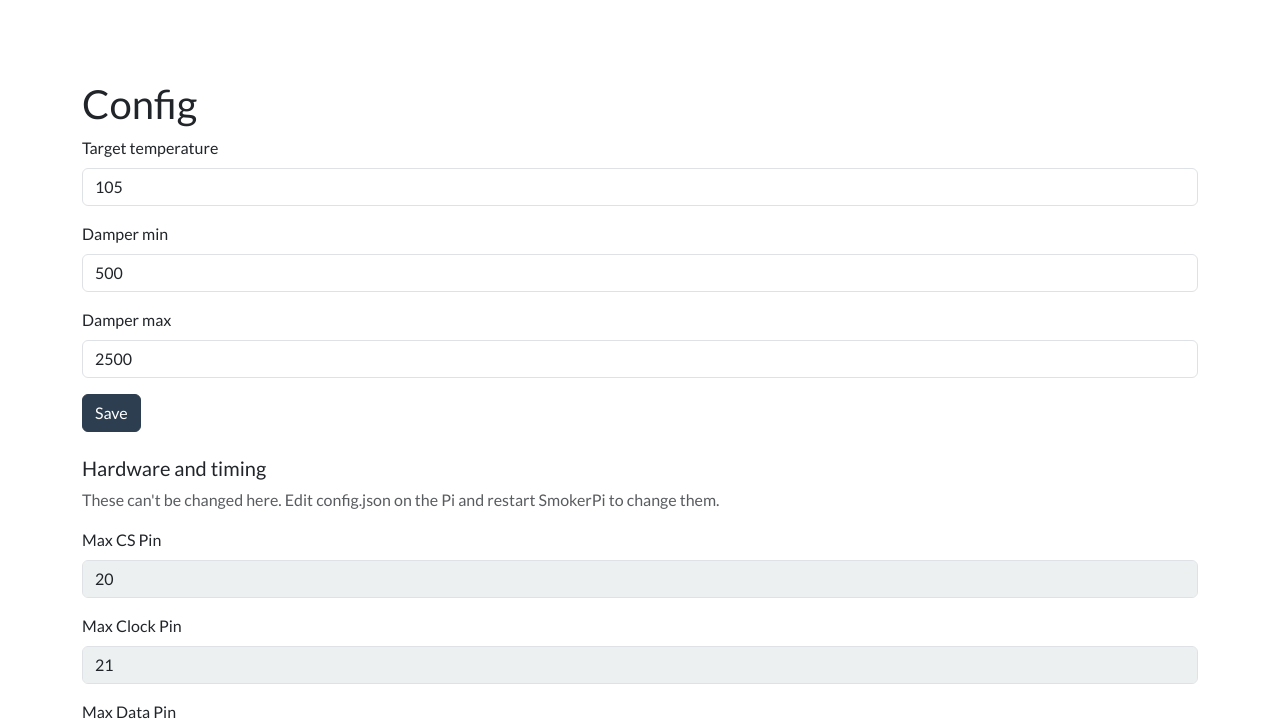
Test: Target temperature = "hot" shows an error next to the field and is not posted
Replace the text in the field labelled "Target temperature" with "hot": (640, 187) x1=82 y1=168 x2=1198 y2=206
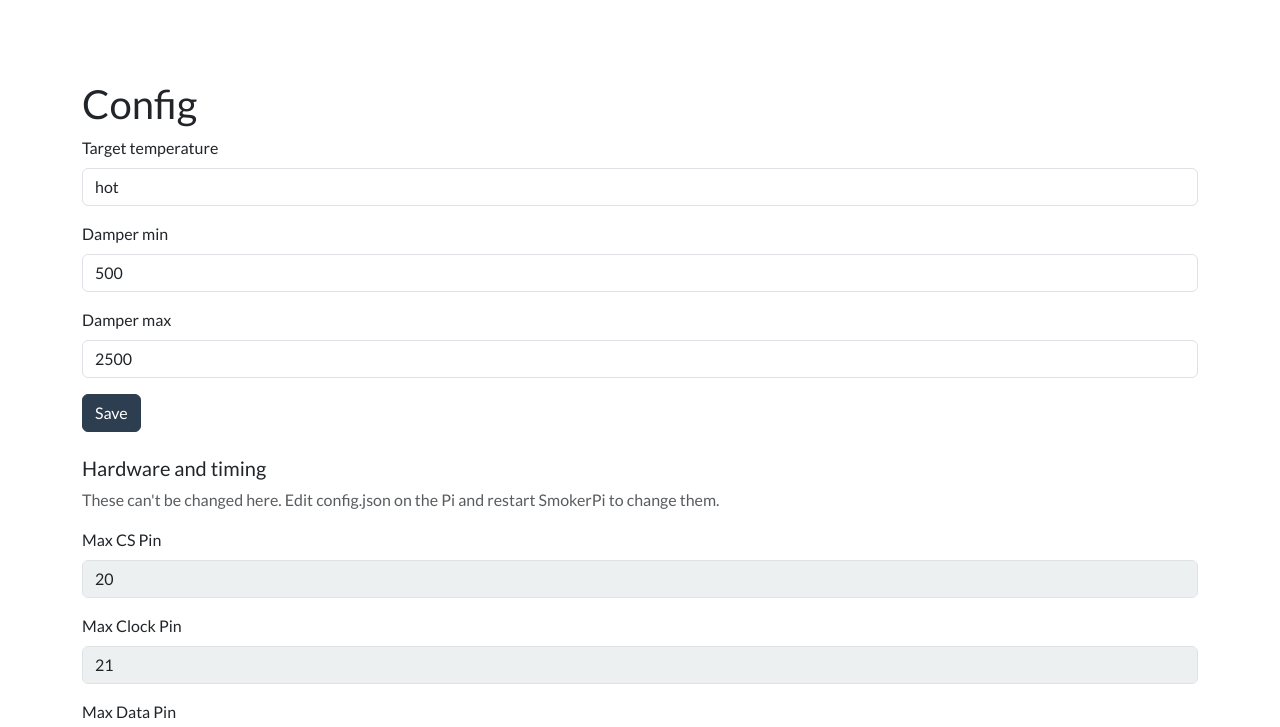
Click the button "Save": (111, 413) x1=82 y1=394 x2=141 y2=432
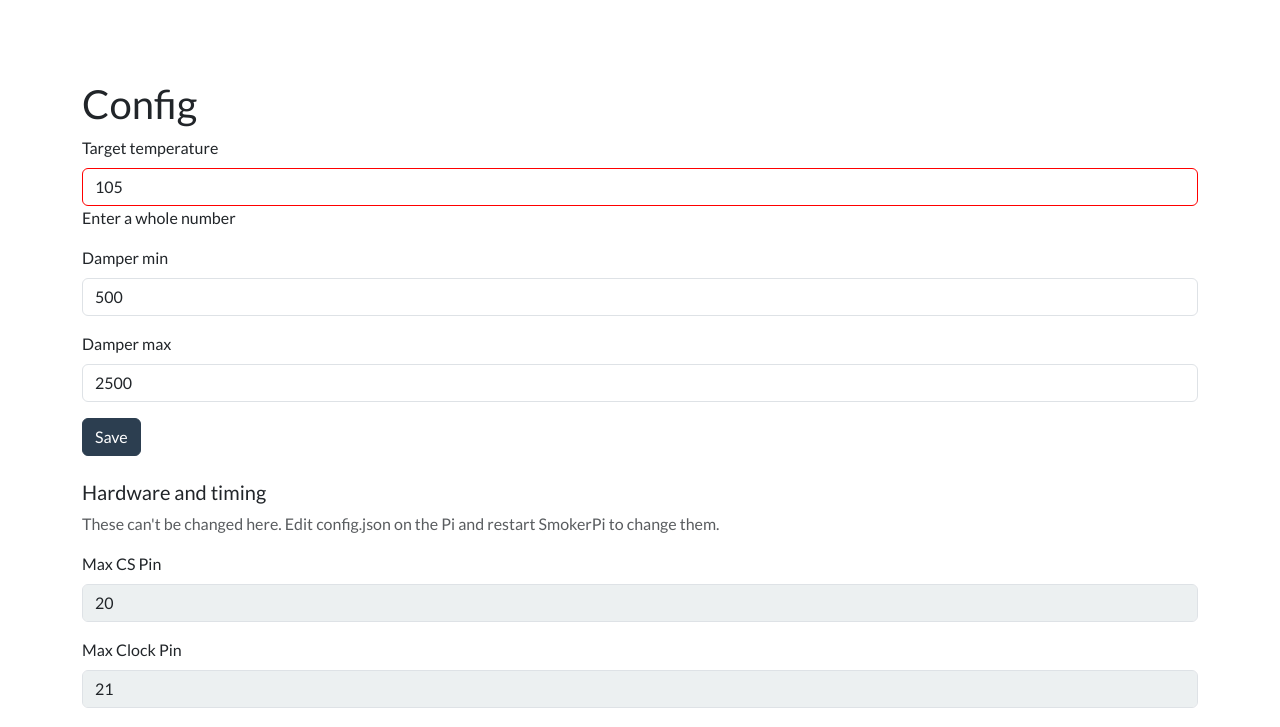
Result: the text "Enter a whole number" is shown at x1=82 y1=208 x2=236 y2=227
